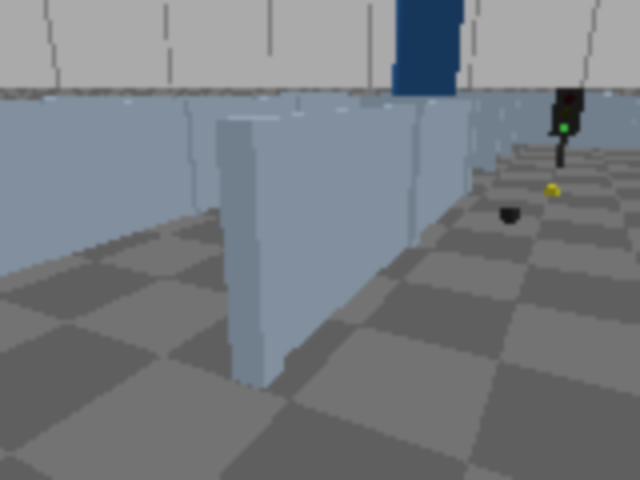puck: (500, 206, 520, 224)
traffic_light: (545, 84, 586, 169)
